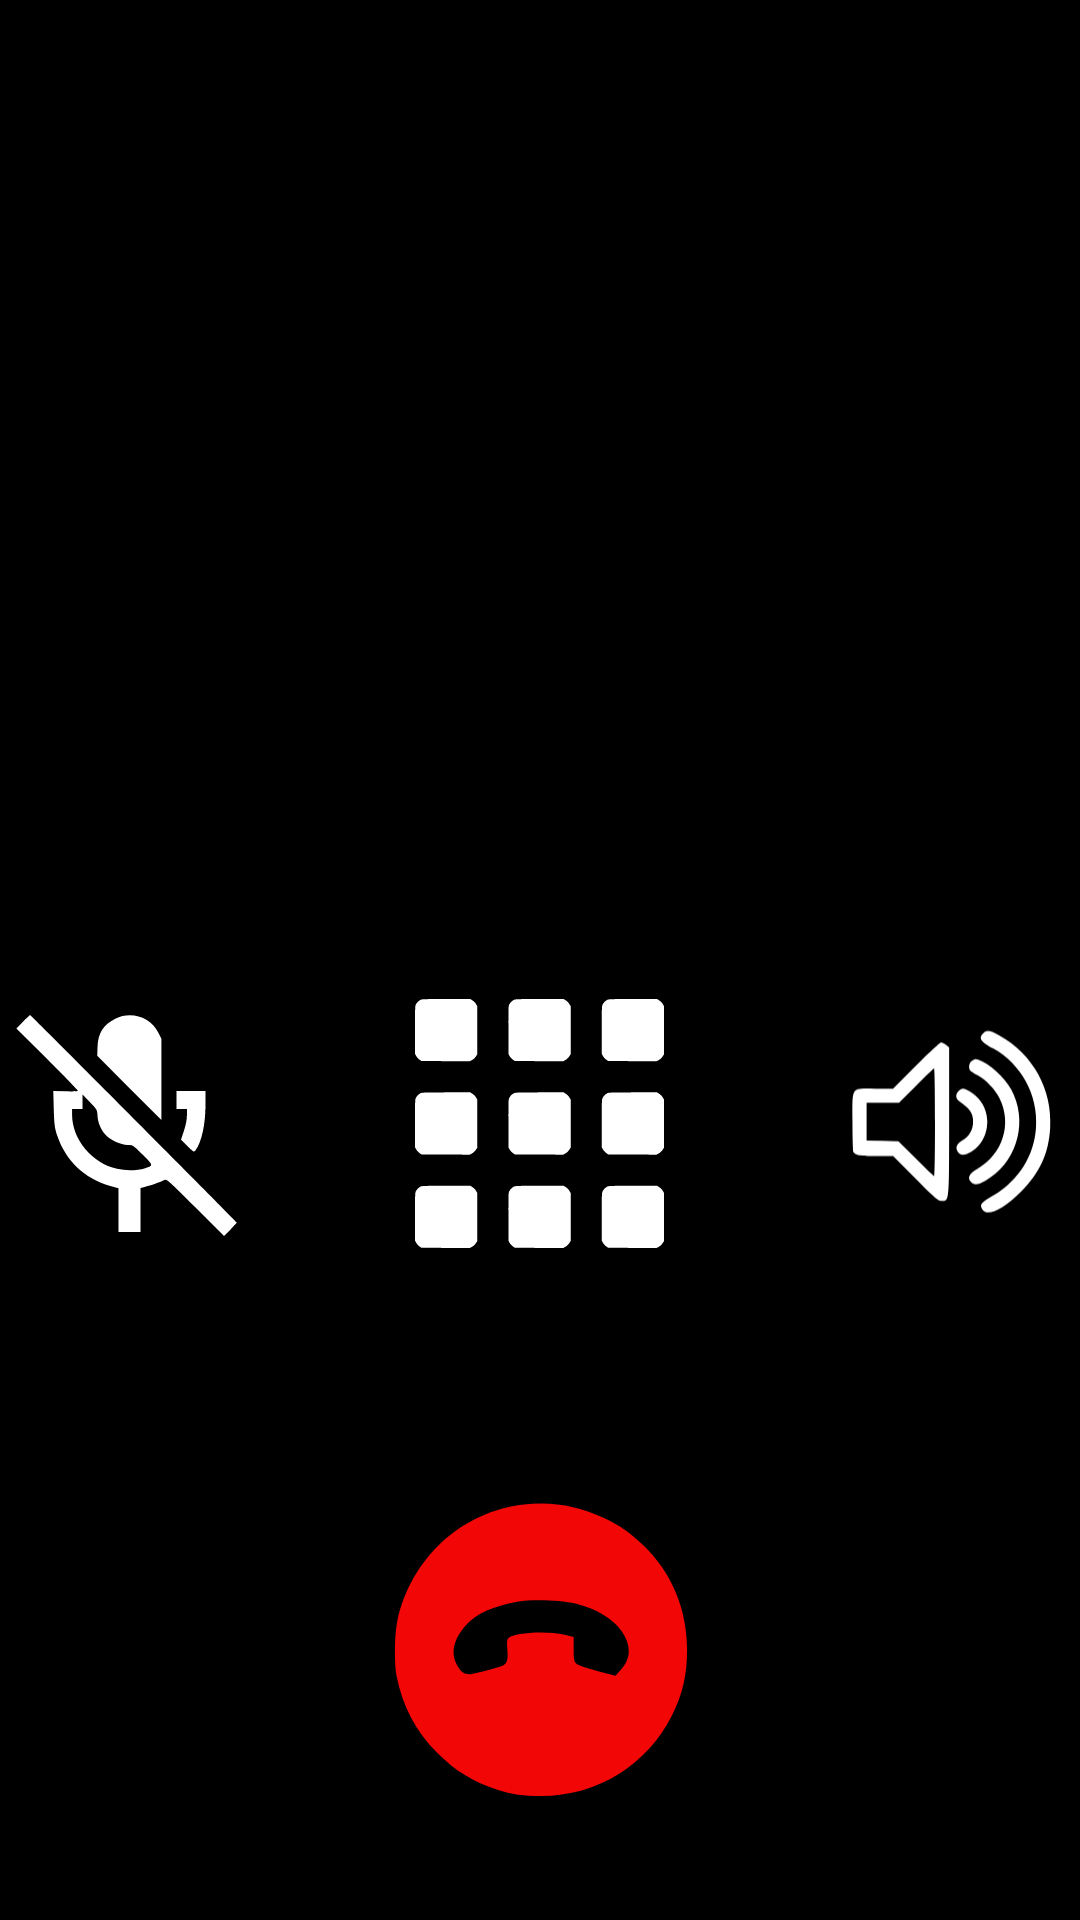

Where to tap for icons on this 1080*1920 app screen, as (x=x, y=y):
endcallbuttone: (x=541, y=1649)
keyboardphone: (x=539, y=1123)
